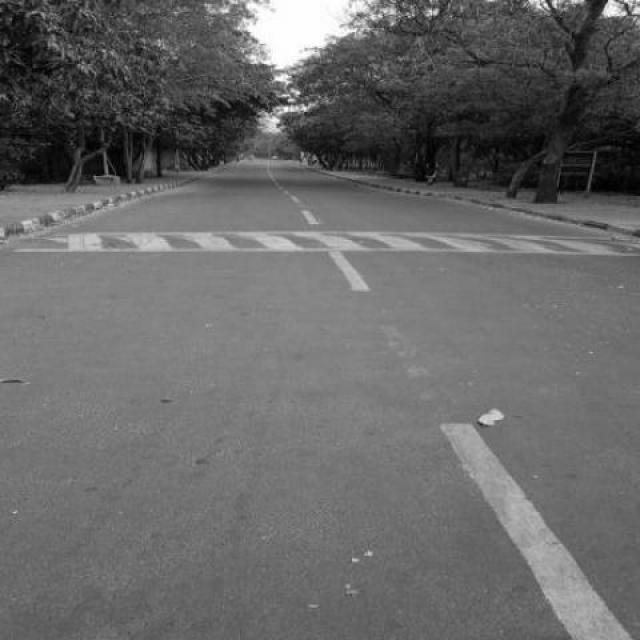Speed Bump: (7, 231, 638, 262)
